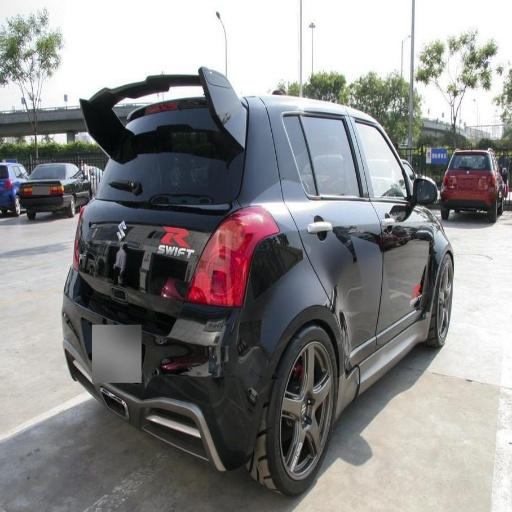back_bumper: (63, 270, 284, 466)
back_right_door: (274, 109, 383, 361)
trunk: (82, 178, 221, 317)
